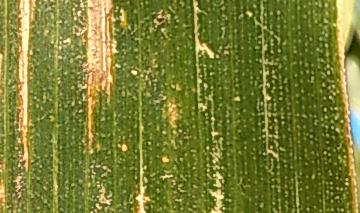tarspot: (148, 12, 171, 25)
